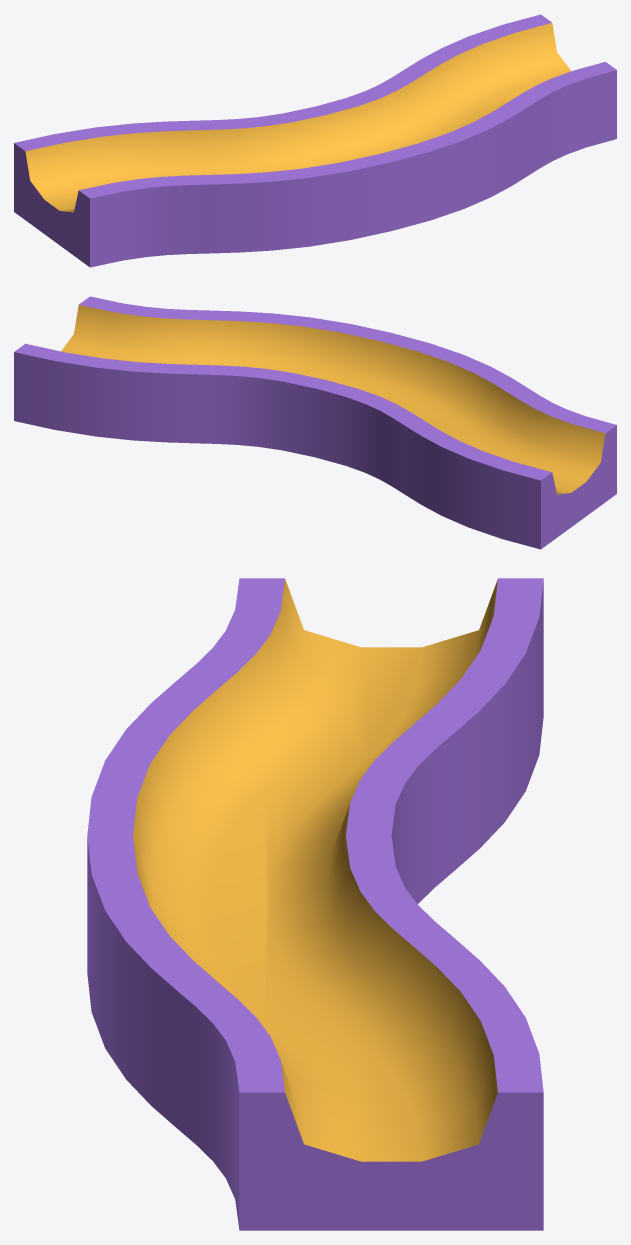
Rendered from wave-b-col.glb.
The picture shows the model from 3 angles, top to bottom: view 1: azimuth 30°, elevation 25°; view 2: azimuth 150°, elevation 25°; view 3: azimuth 270°, elevation 25°; orthographic projection. The views are drawn at different scales.
Parts seen in each view (by area): view 1: wave-b-col; view 2: wave-b-col; view 3: wave-b-col.
Boxes of the visible parts, box(x1,y1,x2,y2) form: wave-b-col: box(14, 14, 616, 267); wave-b-col: box(14, 296, 616, 549); wave-b-col: box(87, 578, 543, 1230).
Size of the model in its own units: 4 by 0.5 by 1.5.
Materials: 1 (1 with a texture image).
